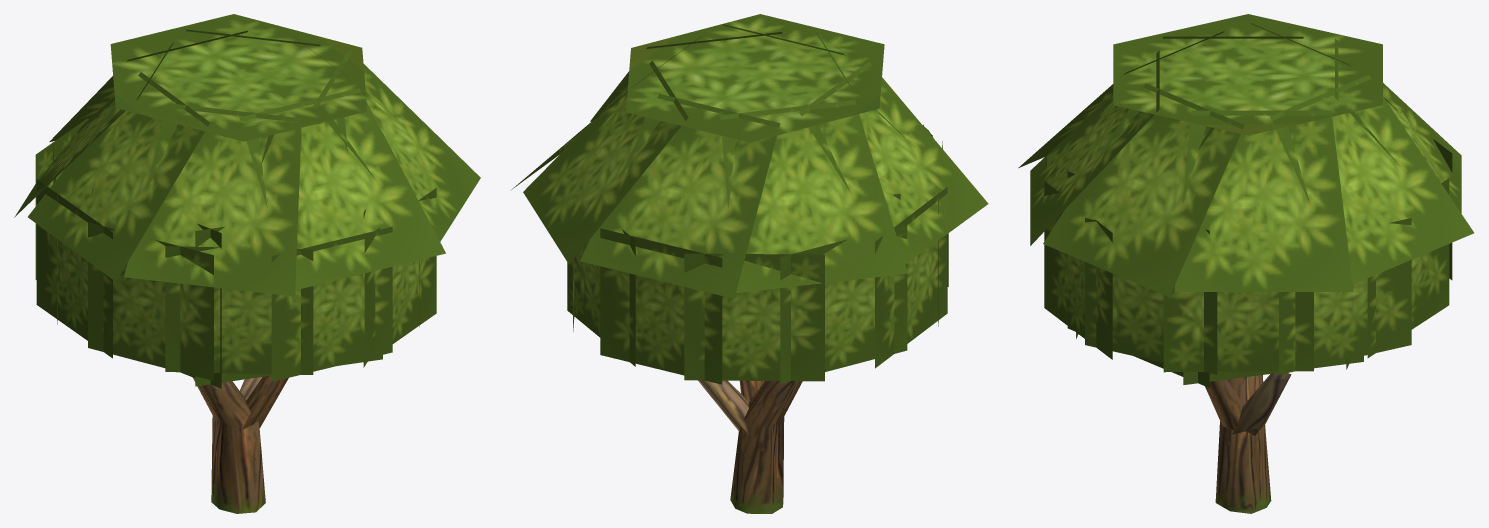
File: City_tree_09.FBX
The picture shows the model from 3 angles, left to right: view 1: azimuth 30°, elevation 25°; view 2: azimuth 150°, elevation 25°; view 3: azimuth 270°, elevation 25°; orthographic projection.
Parts seen in each view (by area): view 1: City_tree_09; view 2: City_tree_09; view 3: City_tree_09.
Part boxes in pixels (x1,y1,x2,y2): City_tree_09: (14, 14, 480, 513); City_tree_09: (511, 14, 988, 513); City_tree_09: (1018, 14, 1474, 513).
Bounding box in the file's own units: 419 × 436 × 419.
